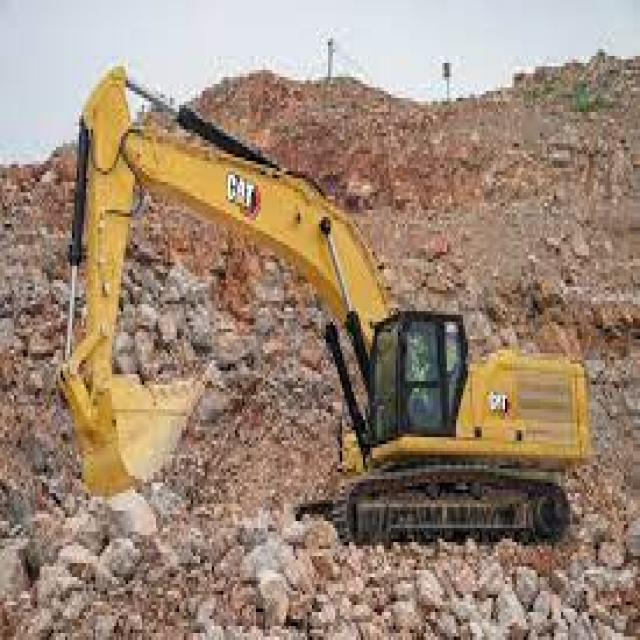excavator: (57, 60, 594, 553)
